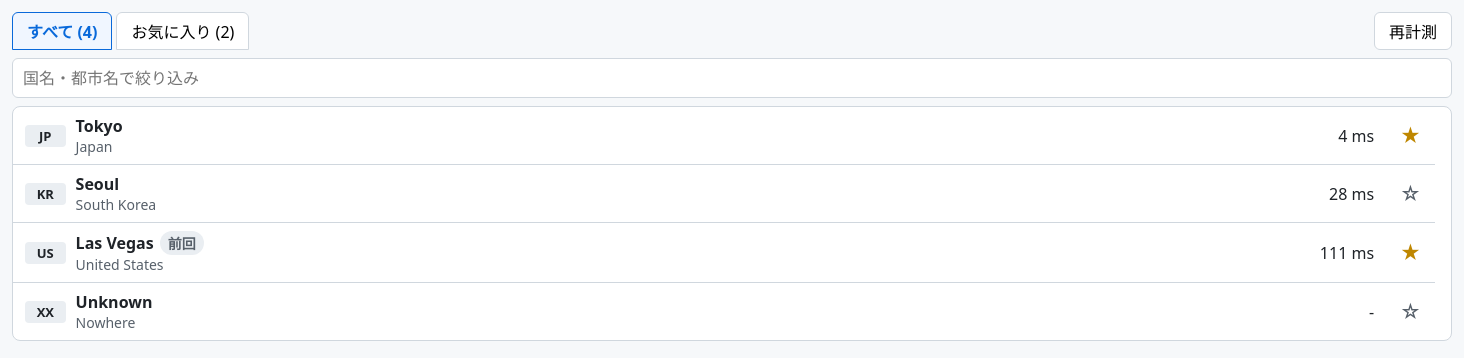
Test: LocationList › 国名・都市名の入力で絞り込み、該当なしなら案内を出す。順序は保たれる
Type "o" into the search field named "接続先を絞り込み" at (732, 78), box [12,58,1452,98]
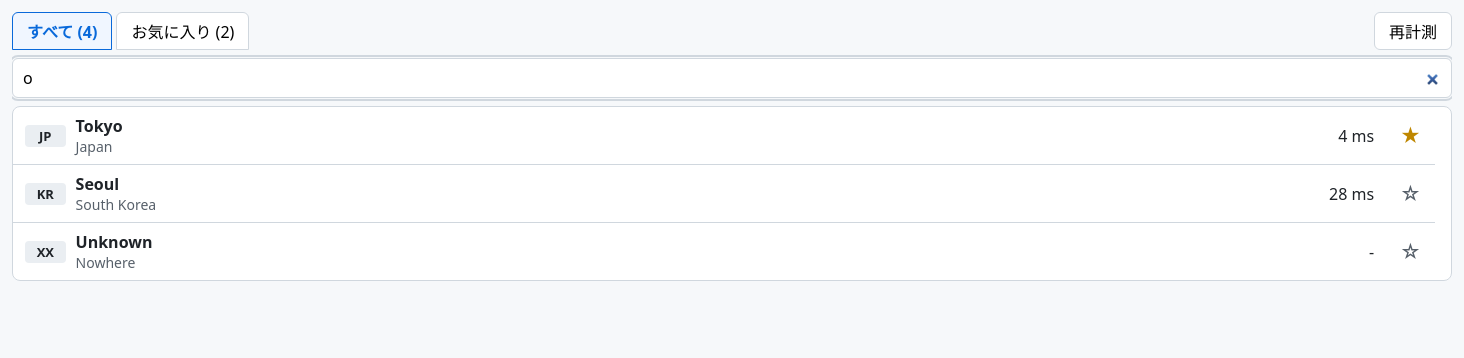
Replace the text in the search field with "zzz" at (732, 78), box [12,58,1452,98]
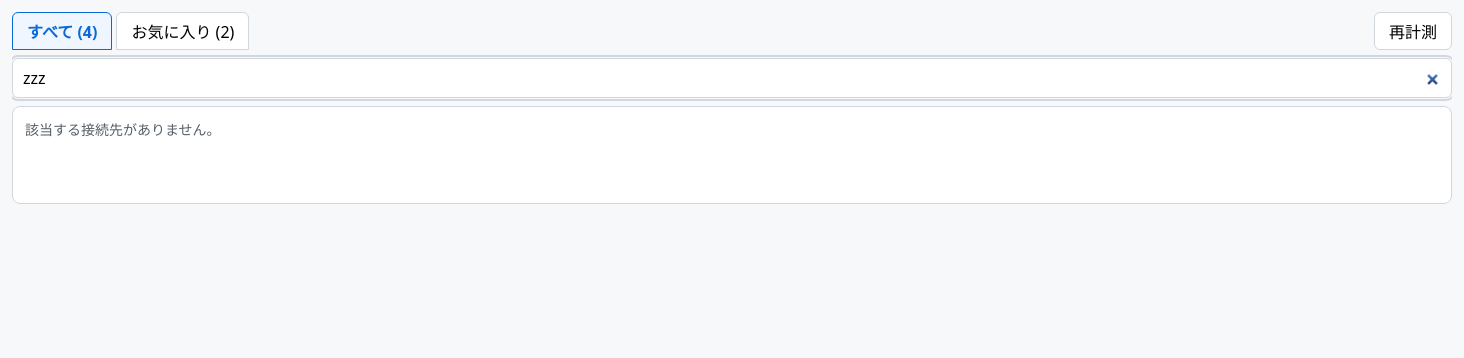
Check: the text "該当する接続先がありません。" is shown, box [25,120,221,139]
